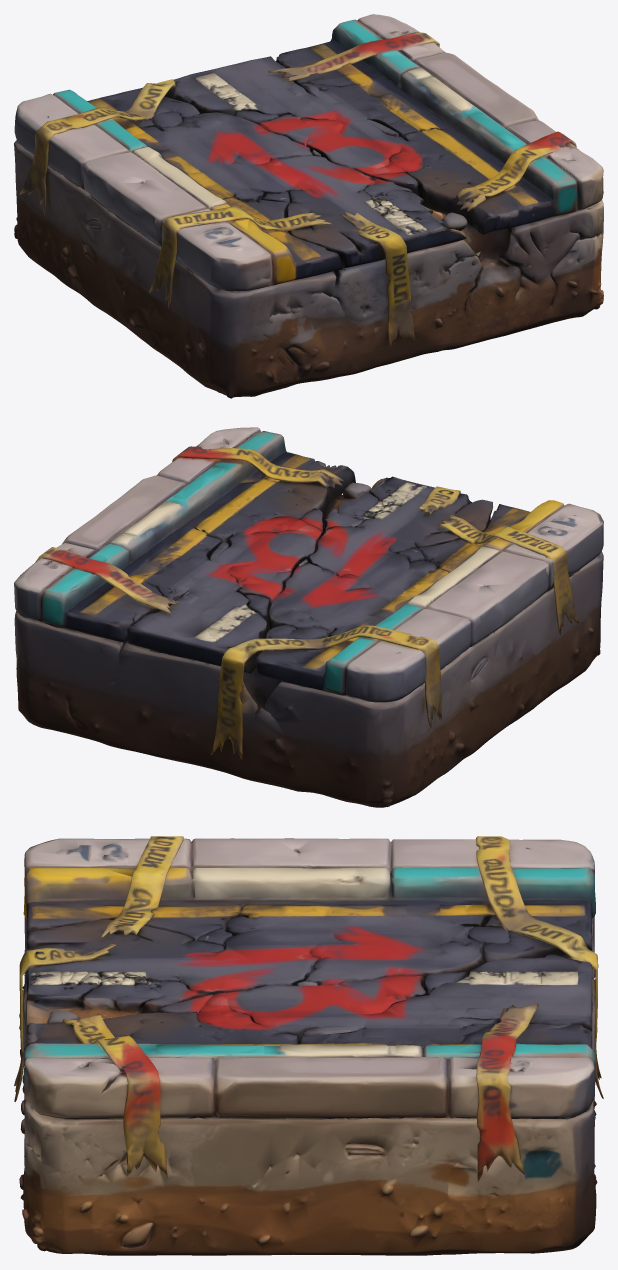
The model's file is road_slab_13.glb.
3 renders of one model, top to bottom at view 1: azimuth 30°, elevation 25°; view 2: azimuth 150°, elevation 25°; view 3: azimuth 270°, elevation 25°, orthographic. The views are drawn at different scales.
Visible parts, largest first — view 1: tripo_part_0, tripo_part_1, tripo_part_4, tripo_part_3, tripo_part_2, tripo_part_6, tripo_part_7, tripo_part_5, tripo_part_8; view 2: tripo_part_0, tripo_part_1, tripo_part_4, tripo_part_3, tripo_part_2, tripo_part_6, tripo_part_8, tripo_part_5, tripo_part_7; view 3: tripo_part_0, tripo_part_1, tripo_part_3, tripo_part_4, tripo_part_8, tripo_part_5, tripo_part_2, tripo_part_6, tripo_part_7.
Part boxes in pixels (<box>): tripo_part_0: <box>14,140,603,398</box>; tripo_part_1: <box>87,40,553,279</box>; tripo_part_4: <box>14,89,296,291</box>; tripo_part_3: <box>331,14,603,216</box>; tripo_part_2: <box>19,79,174,215</box>; tripo_part_6: <box>149,206,331,307</box>; tripo_part_7: <box>340,211,416,346</box>; tripo_part_5: <box>456,131,576,211</box>; tripo_part_8: <box>268,32,439,81</box>; tripo_part_0: <box>14,551,603,807</box>; tripo_part_1: <box>66,451,530,690</box>; tripo_part_4: <box>322,500,603,702</box>; tripo_part_3: <box>14,427,286,629</box>; tripo_part_2: <box>211,625,442,759</box>; tripo_part_6: <box>439,515,579,635</box>; tripo_part_8: <box>35,545,178,614</box>; tripo_part_5: <box>172,444,343,489</box>; tripo_part_7: <box>419,486,466,514</box>; tripo_part_0: <box>19,915,597,1255</box>; tripo_part_1: <box>26,900,592,1048</box>; tripo_part_3: <box>23,1043,595,1121</box>; tripo_part_4: <box>23,838,595,918</box>; tripo_part_8: <box>453,1003,538,1181</box>; tripo_part_5: <box>62,1015,167,1178</box>; tripo_part_2: <box>476,836,603,1098</box>; tripo_part_6: <box>100,836,186,937</box>; tripo_part_7: <box>14,944,116,1101</box>.
Size of the model in its own units: 0.9812 by 0.3391 by 0.9511.
1 material, 1 textured.
